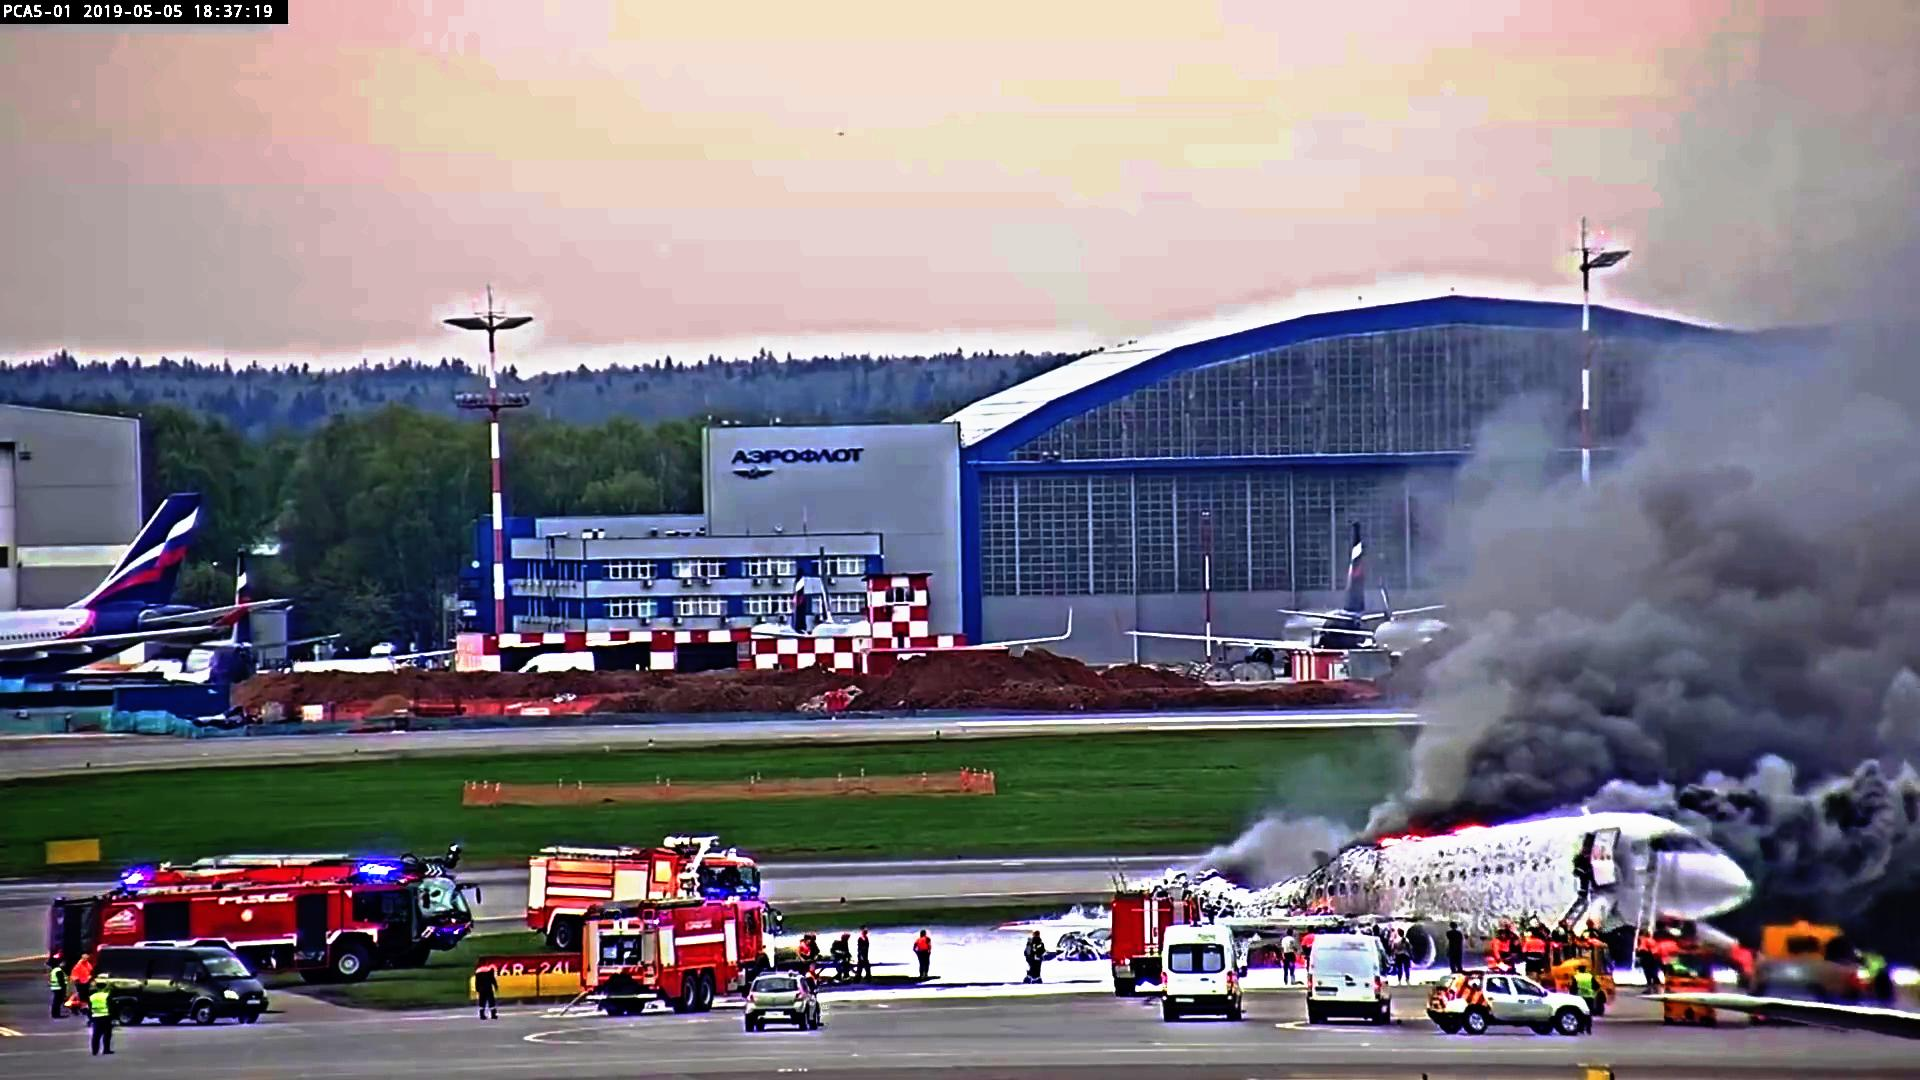smoke: (1473, 607, 1695, 814), (1705, 753, 1920, 882)
